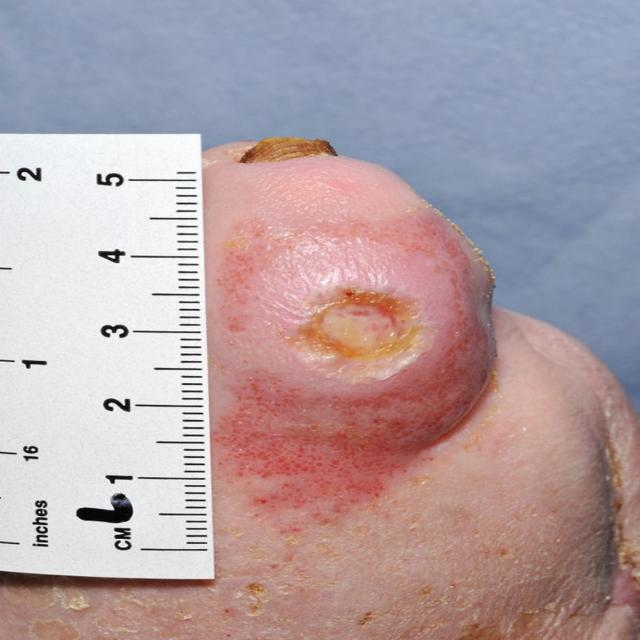wound: (201, 136, 498, 517)
